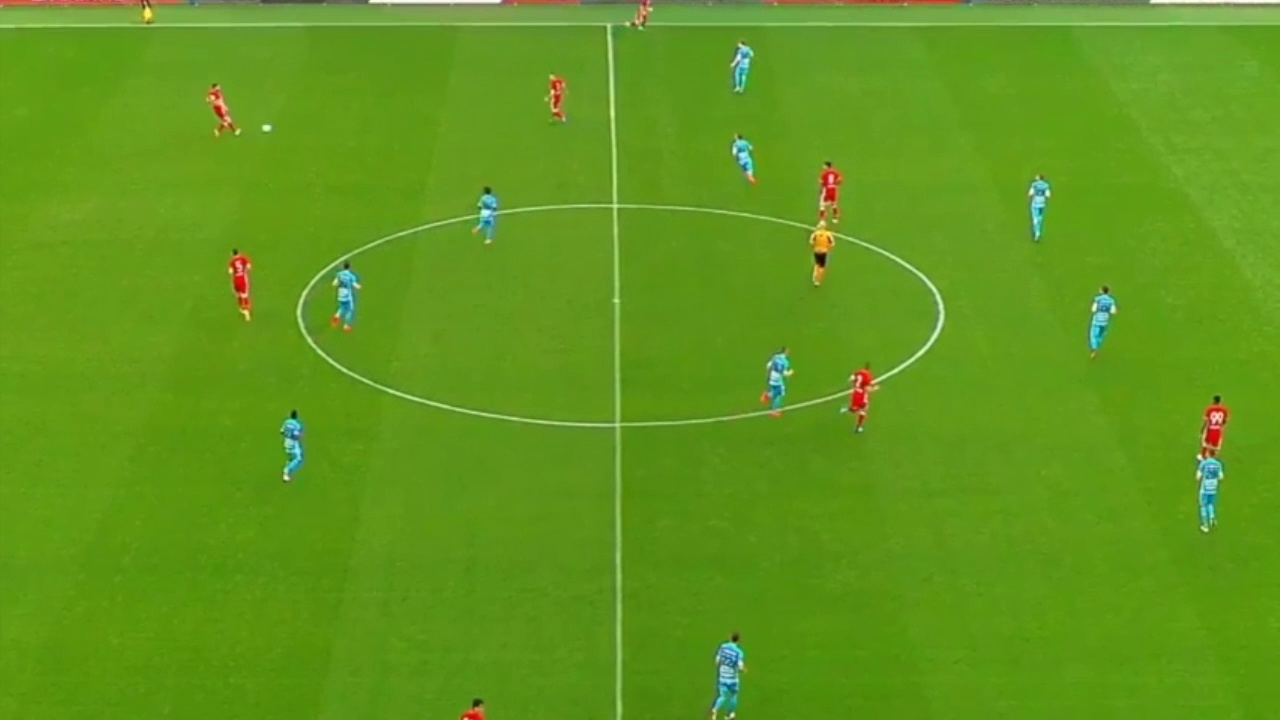ball: (260, 121, 273, 135)
person: (711, 626, 749, 713), (1188, 447, 1225, 536), (1084, 279, 1118, 356), (842, 365, 877, 434), (1023, 172, 1056, 245), (225, 248, 259, 318), (1195, 388, 1230, 455), (813, 155, 845, 225), (331, 259, 361, 331), (203, 80, 241, 136), (761, 343, 788, 416), (542, 69, 574, 123), (727, 36, 757, 93), (278, 411, 303, 475), (473, 187, 499, 244), (732, 134, 761, 184)
